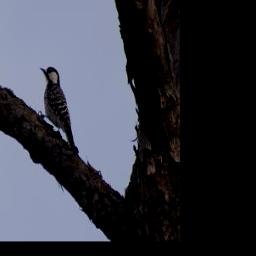Woodpecker: (36, 61, 82, 160)
